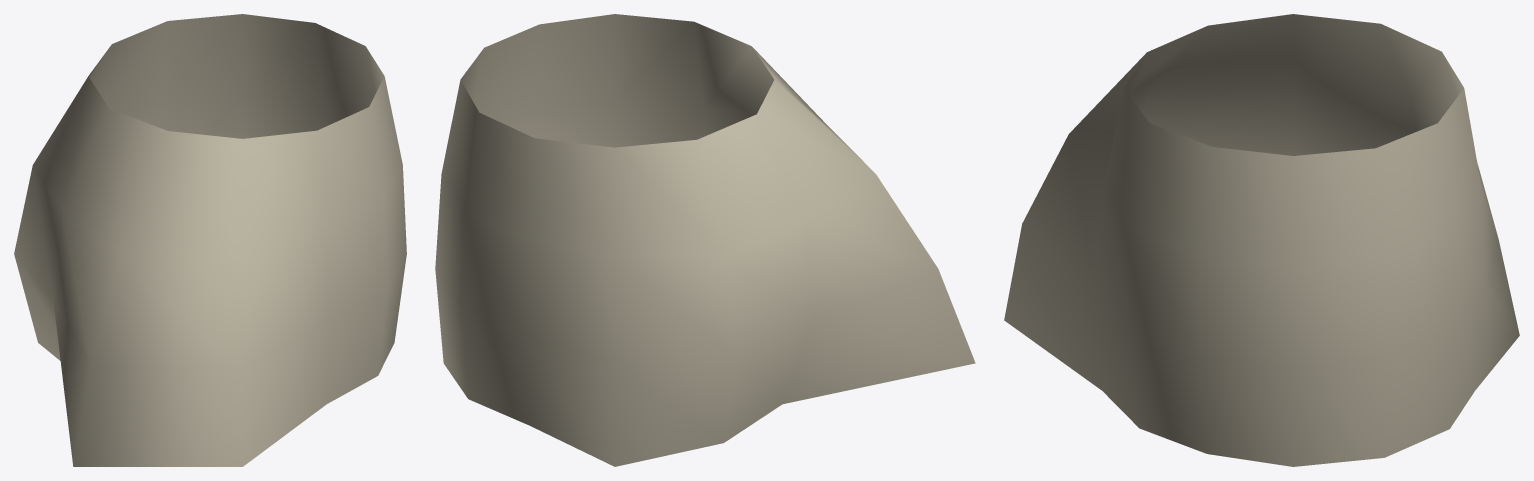
The model's file is necro_armor_pauldron.R.glb.
The picture shows the model from 3 angles, left to right: view 1: azimuth 30°, elevation 25°; view 2: azimuth 150°, elevation 25°; view 3: azimuth 270°, elevation 25°; orthographic projection. The views are drawn at different scales.
Parts seen in each view (by area): view 1: necro_armor_pauldron.R; view 2: necro_armor_pauldron.R; view 3: necro_armor_pauldron.R.
Boxes of the visible parts, x1,y1,x2,y2 form: necro_armor_pauldron.R: [14, 14, 406, 466]; necro_armor_pauldron.R: [435, 14, 975, 466]; necro_armor_pauldron.R: [1004, 14, 1519, 466].
Bounding box in the file's own units: 0.2337 × 0.149 × 0.2299.
